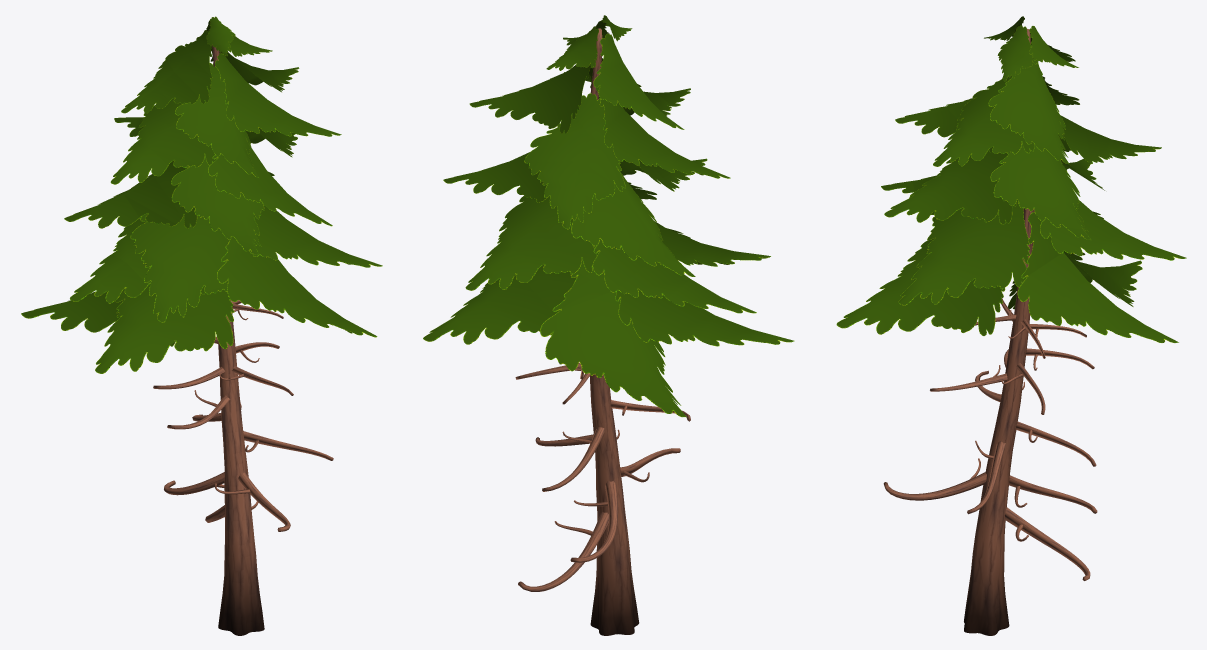
Rendered from Pine_3.gltf.
The picture shows the model from 3 angles, left to right: view 1: azimuth 30°, elevation 25°; view 2: azimuth 150°, elevation 25°; view 3: azimuth 270°, elevation 25°; orthographic projection. The views are drawn at different scales.
Parts seen in each view (by area): view 1: Pine_3; view 2: Pine_3; view 3: Pine_3.
Boxes of the visible parts, x1=… form: Pine_3: x1=21, y1=16, x2=382, y2=635; Pine_3: x1=423, y1=15, x2=794, y2=635; Pine_3: x1=836, y1=16, x2=1186, y2=635.
Bounding box in the file's own units: 3.61 × 7.39 × 4.
2 materials, 2 textured.
